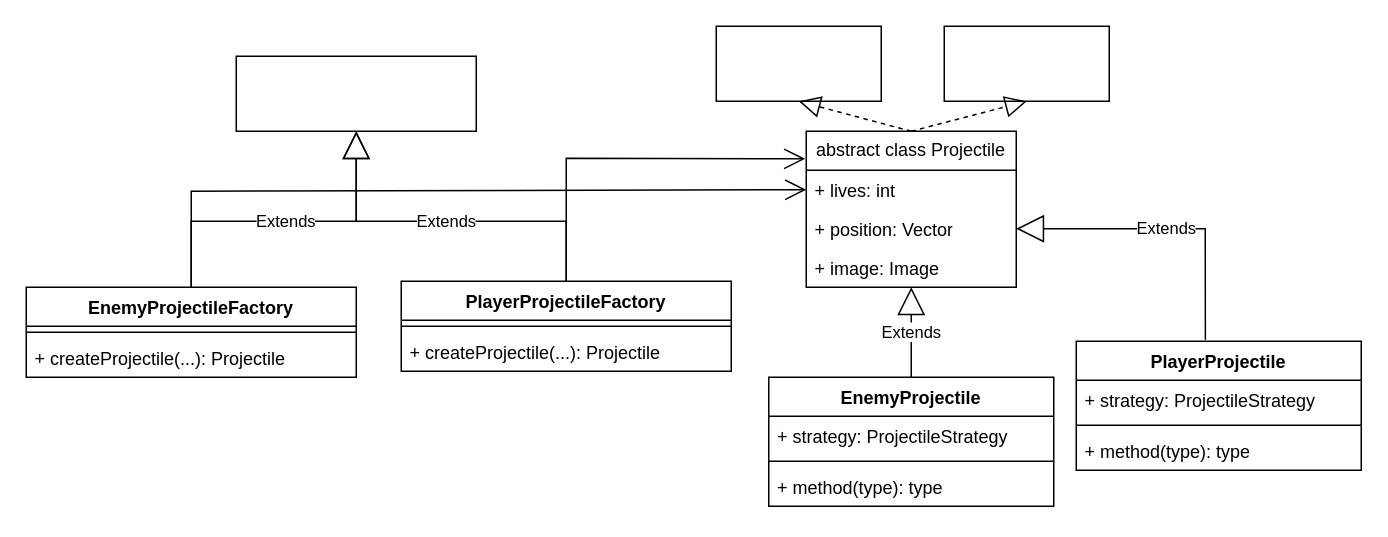
Some shapes in this 1388 by 537 pixel diagram are drawn without their labels. Here are the shapes that lost their labels. From the top down, the centre of each, then its label:
At (x=798, y=63): "«interface» Renderable".
At (x=1026, y=63): "«interface» GameObject".
At (x=355, y=93): "«interface» ProjectileFactory".
